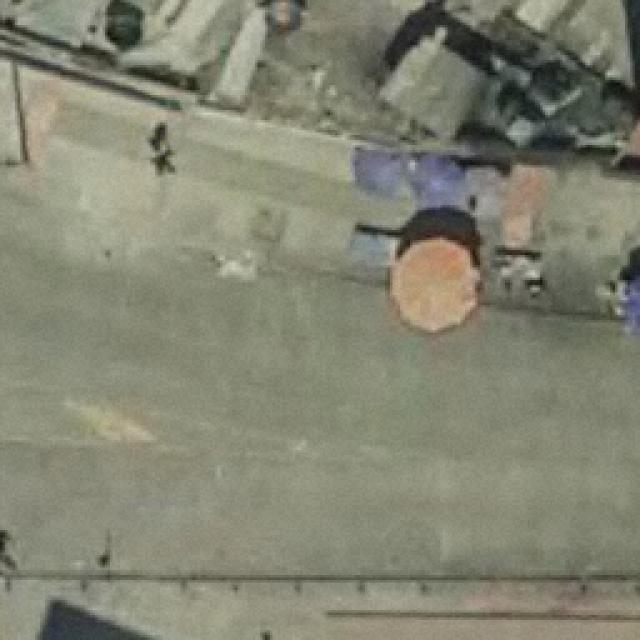vendedor_ambulante: (386, 232, 486, 336), (408, 145, 467, 213)
